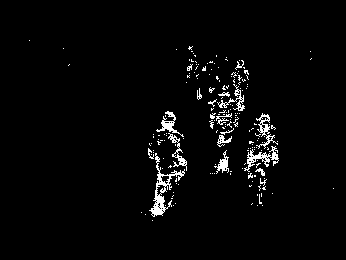person: (146, 109, 188, 217), (244, 112, 279, 208), (209, 84, 240, 173), (231, 58, 250, 112)
